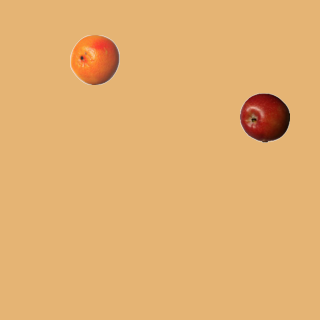Apple Braeburn: (239, 92, 289, 142)
Grapefruit Pink: (69, 34, 119, 84)
